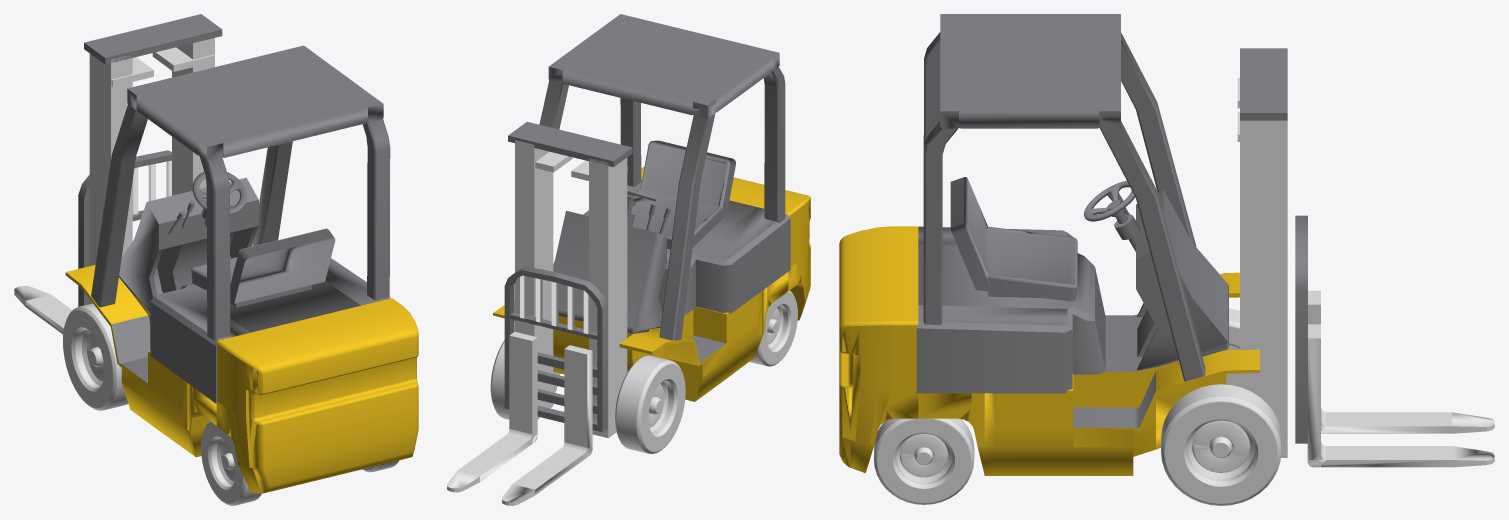
Rendered from forklift.glb.
3 views of the same model, side by side, from view 1: azimuth 30°, elevation 25°; view 2: azimuth 150°, elevation 25°; view 3: azimuth 270°, elevation 25° (orthographic). The views are drawn at different scales.
Parts seen in each view (by area): view 1: Cube.001, Cube.6, Cube.1, Cube.5, Cube.11_2, Cube.4, Tube_2, Cube_1, Tube_1, Cube.7_1, Cube.11_1, Cube.11 (+4 smaller); view 2: Cube.6, Cube.11_2, Cube.001, Cube.11, Cube.1, Cube.5, Tube_2, Cube.7_1, Cube.4, Cube_1, Cube.2, Tube_1 (+4 smaller); view 3: Cube.001, Cube.6, Cube.1, Cube.11_2, Cube.11, Tube_2, Cube.5, Cube.2, Tube_1, Cube_1, Cylinder_2, Cube.4 (+3 smaller).
Boxes of the visible parts, x1,y1,x2,y2 form: Cube.001: (65, 243, 418, 493); Cube.6: (91, 45, 390, 340); Cube.1: (150, 258, 390, 403); Cube.5: (119, 177, 258, 312); Cube.11_2: (89, 38, 214, 303); Cube.4: (230, 228, 335, 303); Tube_2: (63, 303, 128, 410); Cube_1: (84, 14, 222, 64); Tube_1: (201, 421, 398, 505); Cube.7_1: (78, 150, 171, 306); Cube.11_1: (111, 47, 214, 86); Cube.11: (14, 285, 72, 334); Cube.6: (539, 14, 785, 340); Cube.11_2: (515, 140, 627, 438); Cube.001: (493, 167, 810, 401); Cube.11: (447, 332, 592, 505); Cube.1: (583, 179, 790, 314); Cube.5: (553, 210, 666, 333); Tube_2: (490, 329, 685, 454); Cube.7_1: (504, 266, 607, 432); Cube.4: (640, 140, 735, 215); Cube_1: (508, 121, 632, 167); Cube.2: (631, 187, 725, 249); Tube_1: (749, 290, 797, 366); Cube.001: (839, 226, 1259, 475); Cube.6: (923, 14, 1205, 381); Cube.1: (916, 226, 1105, 393); Cube.11_2: (1240, 120, 1287, 457); Cube.11: (1307, 290, 1494, 467); Tube_2: (1161, 308, 1281, 505); Cube.5: (1136, 190, 1228, 370); Cube.2: (977, 226, 1077, 301); Tube_1: (874, 418, 974, 504); Cube_1: (1240, 48, 1287, 120); Cylinder_2: (1187, 345, 1254, 478); Cube.4: (950, 177, 989, 289).
Size of the model in its own units: 274 by 514 by 765.
